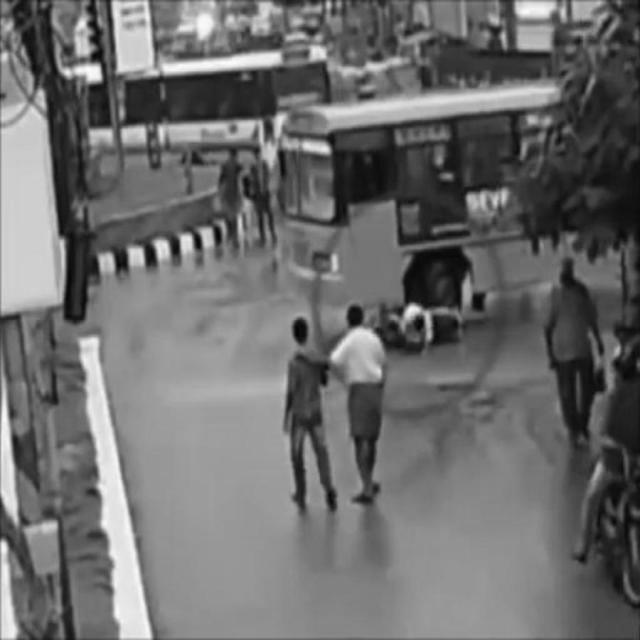accident: (279, 92, 629, 326)
person: (329, 305, 393, 509), (278, 311, 336, 515), (541, 256, 598, 454)
vehicle: (130, 60, 330, 176)
